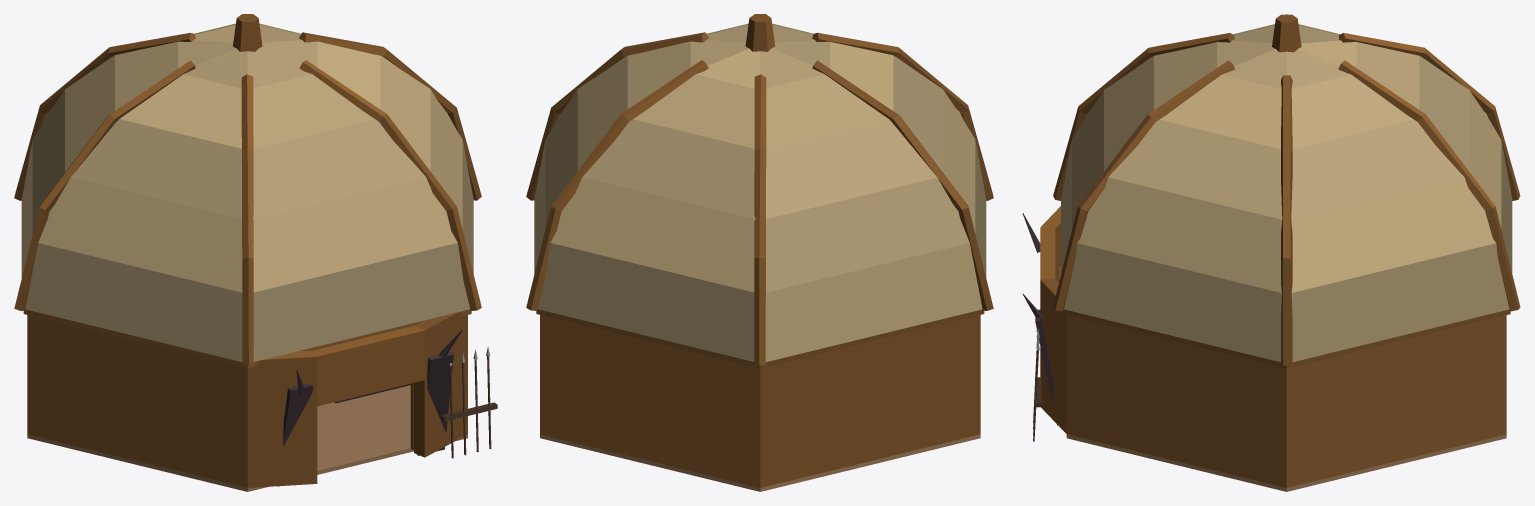
File: walk_hive_barracks.glb
3 views of the same model, side by side, from view 1: azimuth 30°, elevation 25°; view 2: azimuth 150°, elevation 25°; view 3: azimuth 270°, elevation 25° (orthographic).
Visible parts, largest first — view 1: walk_hive_barracks_roof, walk_hive_barracks; view 2: walk_hive_barracks_roof, walk_hive_barracks; view 3: walk_hive_barracks_roof, walk_hive_barracks.
Part boxes in pixels (box(x1,y1,x2,y2)): walk_hive_barracks_roof: box(14, 14, 481, 368); walk_hive_barracks: box(27, 311, 497, 491); walk_hive_barracks_roof: box(526, 14, 993, 368); walk_hive_barracks: box(540, 315, 980, 491); walk_hive_barracks_roof: box(1053, 14, 1520, 368); walk_hive_barracks: box(1022, 206, 1506, 491).
Size of what is drawn, in the model's own units: 12.26 by 9.24 by 11.37.
2 materials, 2 textured.
